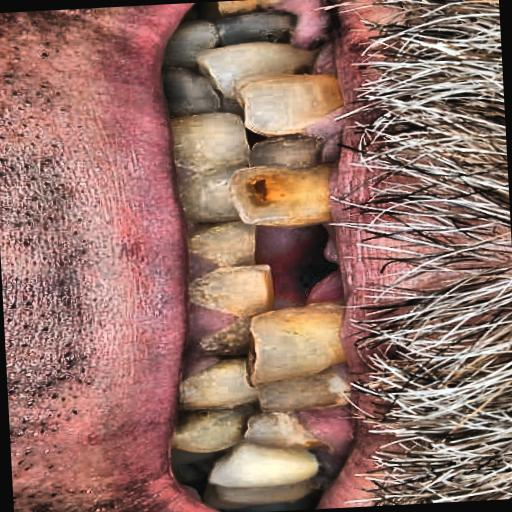Calculus: (155, 14, 362, 228), (176, 262, 362, 484)
